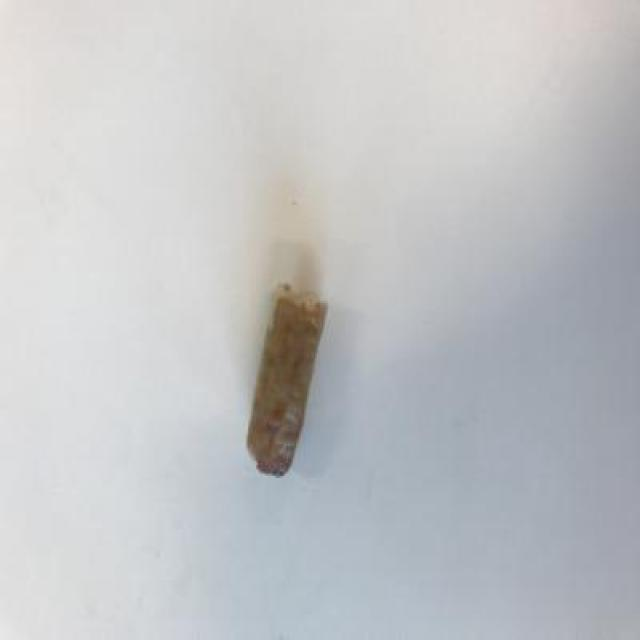compost: (236, 232, 346, 495)
